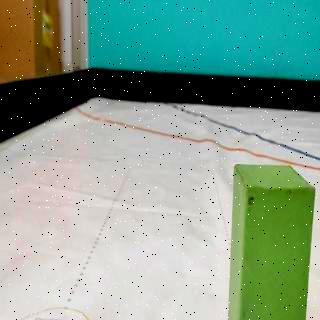greenbox: (228, 162, 314, 320)
